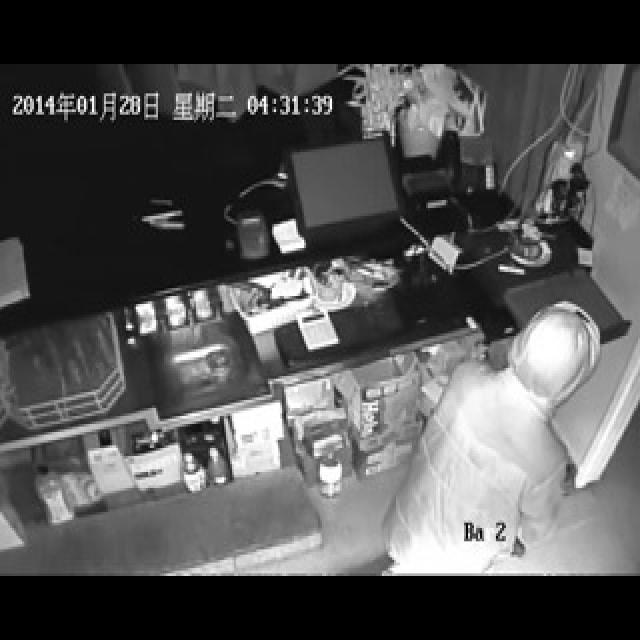thief: (475, 283, 603, 476)
